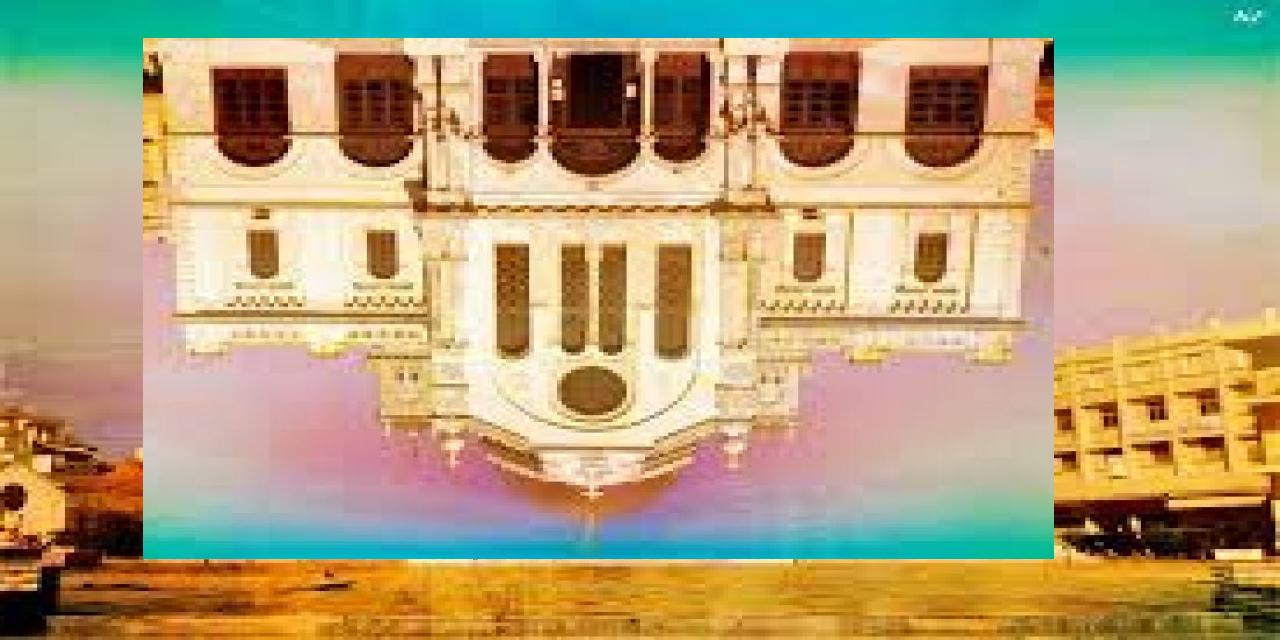Agios Minas: (144, 39, 1055, 560)
